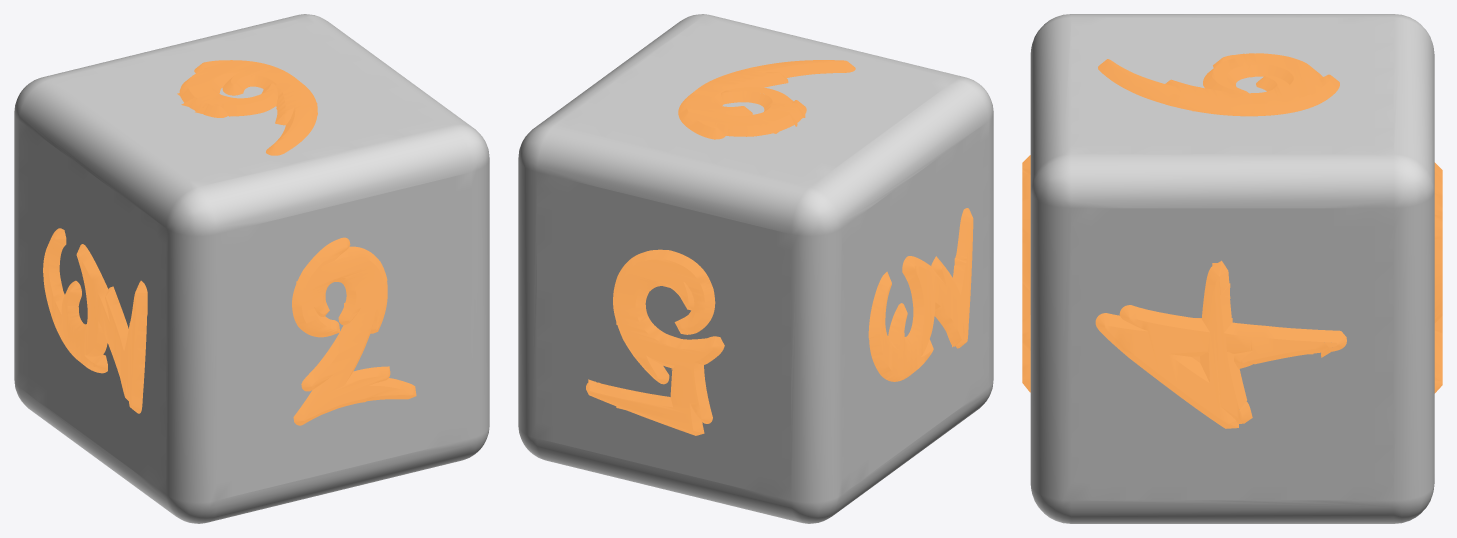
3 renders of one model, left to right at view 1: azimuth 30°, elevation 25°; view 2: azimuth 150°, elevation 25°; view 3: azimuth 270°, elevation 25°, orthographic. The views are drawn at different scales.
Visible parts, largest first — view 1: d6; view 2: d6; view 3: d6.
Boxes of the visible parts, x1,y1,x2,y2 form: d6: (14,14,489,523); d6: (518,14,993,523); d6: (1022,14,1442,523).
Bounding box in the file's own units: 1.45 × 1.44 × 1.44.
